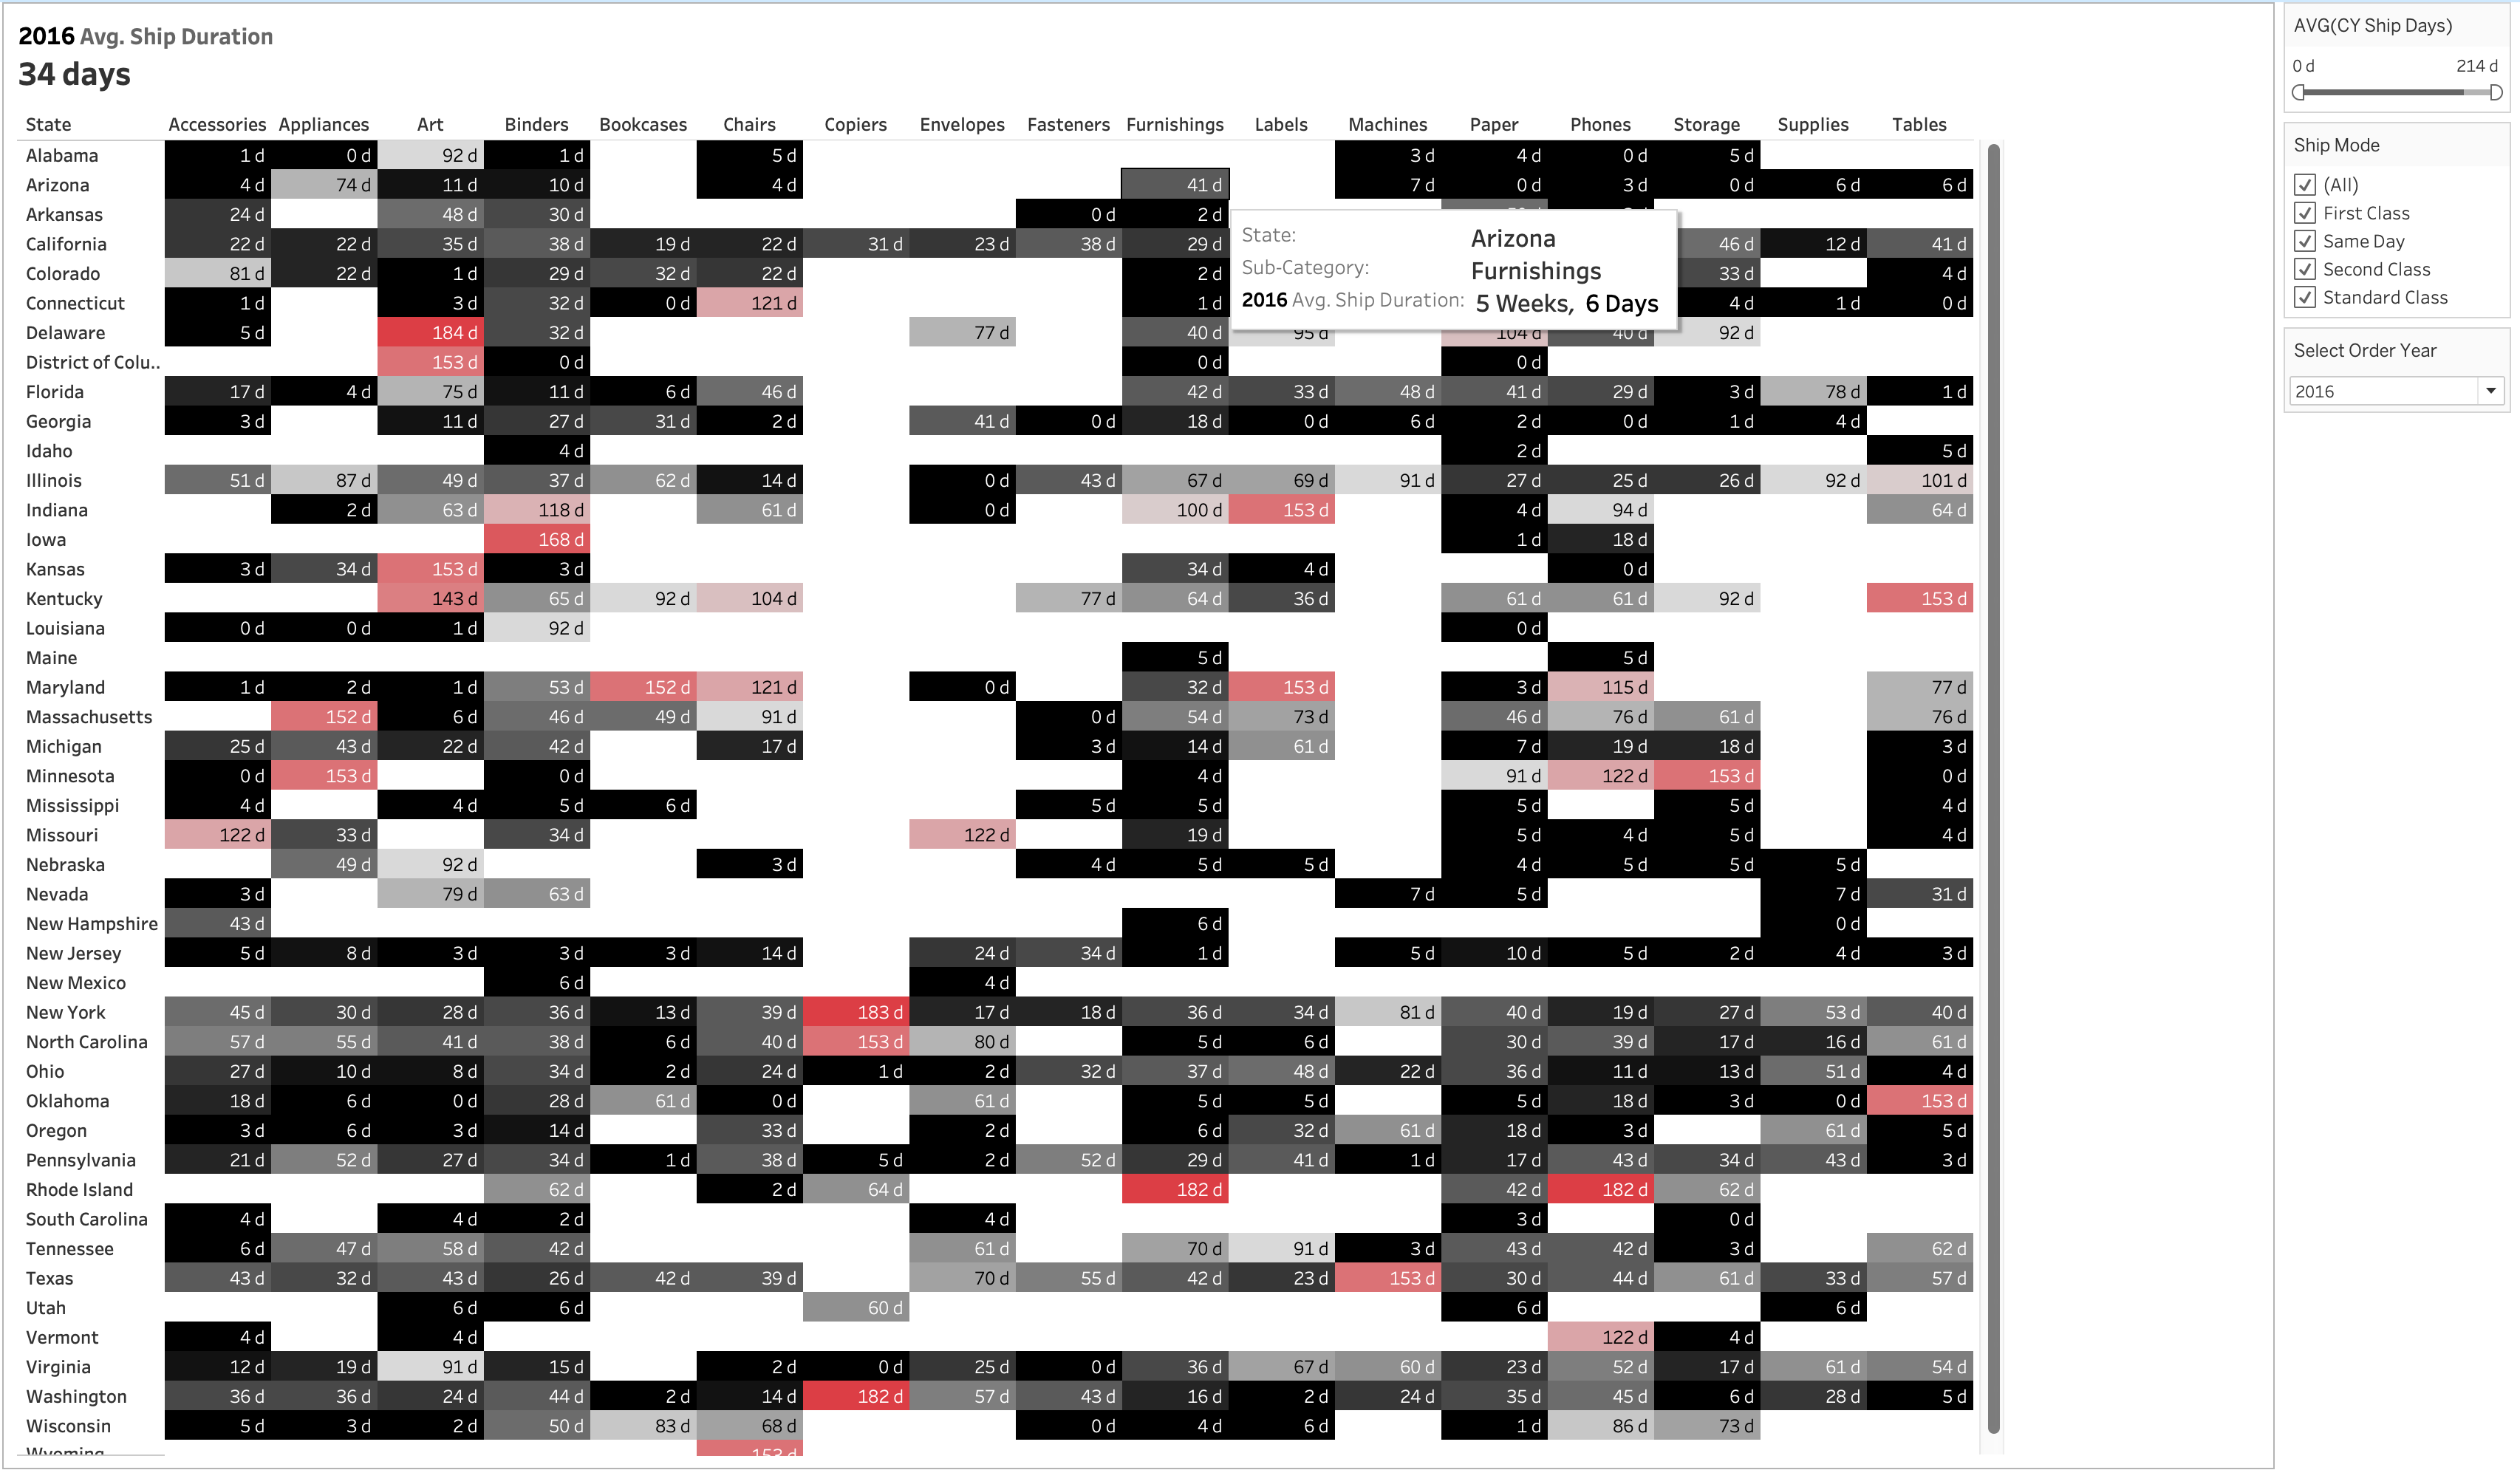

The page's visual inventory and layout, read from the dashboard file:
{"tool":"tableau","page":{"name":"Supply Chain Overview","canvas":[1200,800],"ordinal":0},"visuals":[{"type":"dashboard-object","box":[11,11,110,73]},{"type":"text","box":[121,11,554,73]},{"type":"parameter","param":"[Parameters].[Parameter 2]","box":[675,11,160,73]},{"type":"filter","title":"Avg Shipping Duration","param":"[federated.1r2zmz30o6xx7a1brqhdf0vvpog4].[none:Ship Mode:nk]","box":[835,11,163,73]},{"type":"filter","title":"KPI Orders","param":"[federated.1r2zmz30o6xx7a1brqhdf0vvpog4].[none:Returned:nk]","box":[998,11,191,73]},{"type":"worksheet","title":"Orders Bans","mark":"Text","box":[11,84,589,130]},{"type":"worksheet","title":"Profit by Category","mark":"Automatic","rows":["Sub-Category"],"cols":["Calculation_0097814033584133","Calculation_0097814033539076","Calculation_0097814030692352"],"box":[600,84,589,324.9]},{"type":"worksheet","title":"KPI Orders","mark":"Line","rows":["Max/Min Customers (copy)_0068890684571650"],"cols":["Order Date"],"box":[11,214,589,195]},{"type":"worksheet","title":"Avg Shipping Duration","mark":"Square","rows":["State"],"cols":["Sub-Category"],"box":[600,408.9,589,379]},{"type":"worksheet","title":"KPI Customers","mark":"Line","rows":["Max/Min Monthly Product Sales (copy)_0068890680115201"],"cols":["Order Date"],"box":[11,409,589,191]},{"type":"worksheet","title":"KPI Products","mark":"Line","rows":["Calculation_0098095706906630","Calculation_0068890676686848"],"cols":["Order Date"],"box":[11,600,589,188]}]}

Visuals, with their boxes on the page's 1200x800 design canvas (x1, y1, x2, y2). These are canvas units, not pixel positions in the 2520x1470 screenshot, which may show the page scaled, cropped or inside an application window:
dashboard-object: <bbox>11, 11, 121, 84</bbox>
text: <bbox>121, 11, 675, 84</bbox>
parameter: <bbox>675, 11, 835, 84</bbox>
"Avg Shipping Duration" filter: <bbox>835, 11, 998, 84</bbox>
"KPI Orders" filter: <bbox>998, 11, 1189, 84</bbox>
"Orders Bans" worksheet (Text marks): <bbox>11, 84, 600, 214</bbox>
"Profit by Category" worksheet: <bbox>600, 84, 1189, 409</bbox>
"KPI Orders" worksheet (Line marks): <bbox>11, 214, 600, 409</bbox>
"Avg Shipping Duration" worksheet (Square marks): <bbox>600, 409, 1189, 788</bbox>
"KPI Customers" worksheet (Line marks): <bbox>11, 409, 600, 600</bbox>
"KPI Products" worksheet (Line marks): <bbox>11, 600, 600, 788</bbox>
